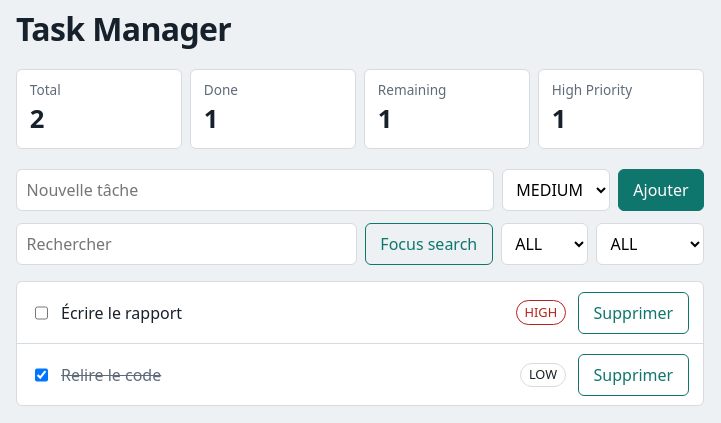
Scenario: filtre par statut
Expected: the text "Écrire le rapport" is shown, [61,301,182,325]
Select "DONE" in the dropdown named "Statut": (544, 244) [501,223,588,265]
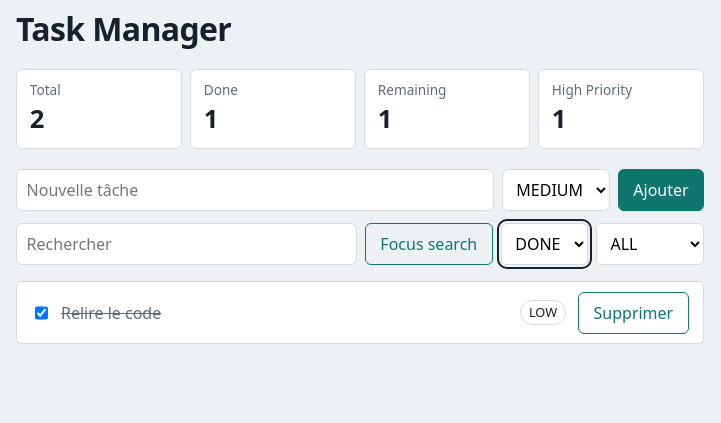
Expected: the text "Relire le code" is shown, [61,301,161,325]
Now the text "Écrire le rapport" is gone
